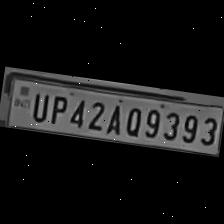2: (84, 96, 107, 131)
3: (160, 107, 182, 142), (197, 113, 220, 146)
4: (66, 94, 88, 128)
9: (178, 110, 201, 144), (140, 104, 162, 139)
A: (104, 100, 126, 136)
P: (46, 92, 68, 125)
Q: (122, 103, 144, 137)
U: (27, 88, 49, 122)
